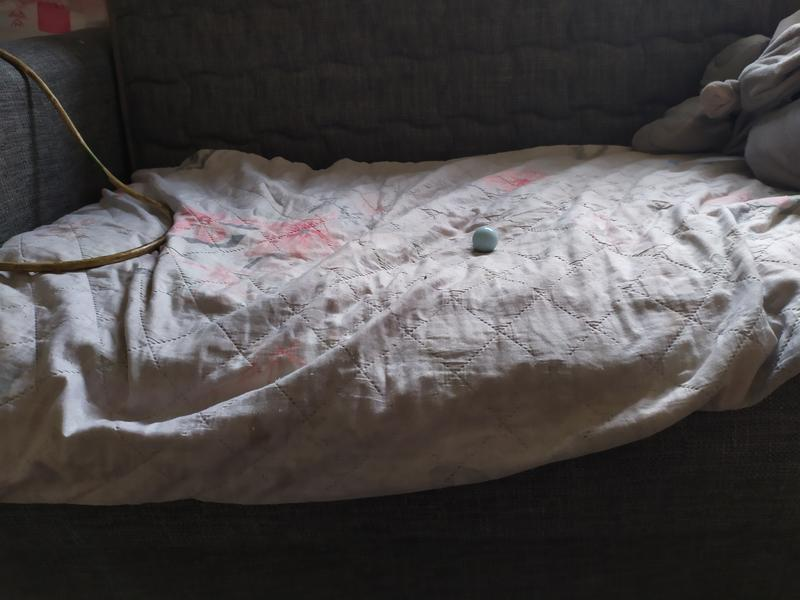Warning: (471, 225, 500, 255)
